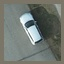car: (21, 13, 43, 45)
